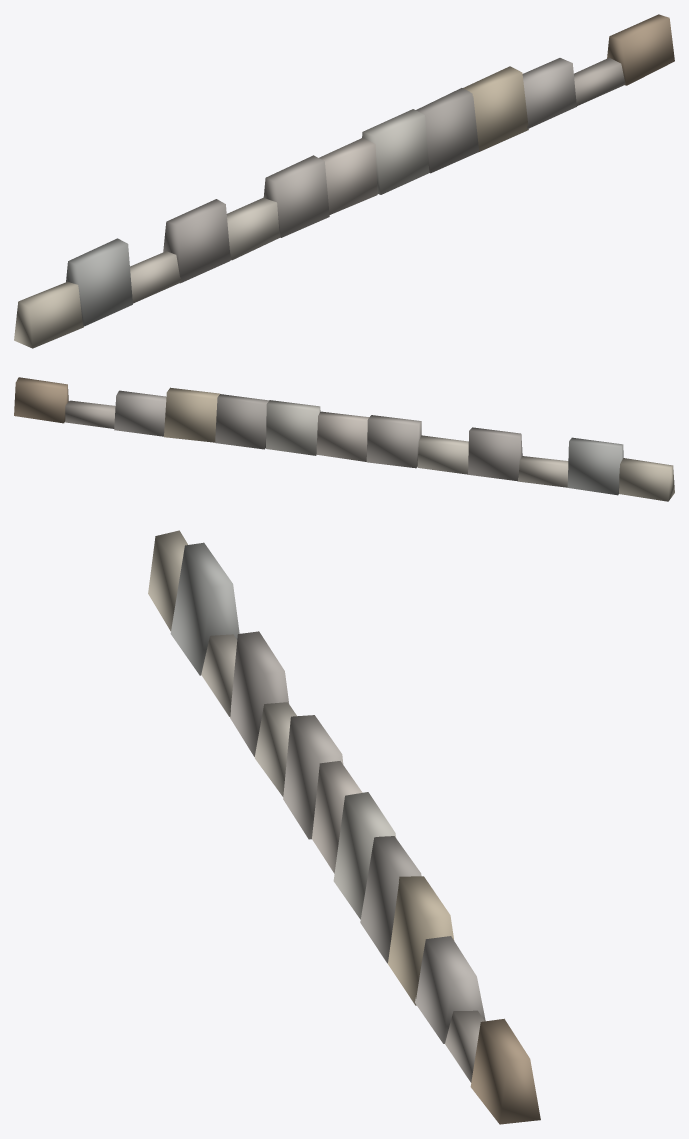
Rendered from farm_-1_6_far.glb.
3 renders of one model, top to bottom at view 1: azimuth 30°, elevation 25°; view 2: azimuth 150°, elevation 25°; view 3: azimuth 270°, elevation 25°, orthographic. The views are drawn at different scales.
Visible parts, largest first — view 1: geometry_0; view 2: geometry_0; view 3: geometry_0.
Part boxes in pixels (box(x1,y1,x2,y2)): geometry_0: box(14, 14, 674, 348); geometry_0: box(14, 377, 674, 501); geometry_0: box(148, 530, 540, 1124).
Size of the model in its own units: 20.06 by 1.71 by 5.97.
